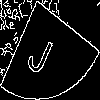J: (25, 25, 59, 78)
